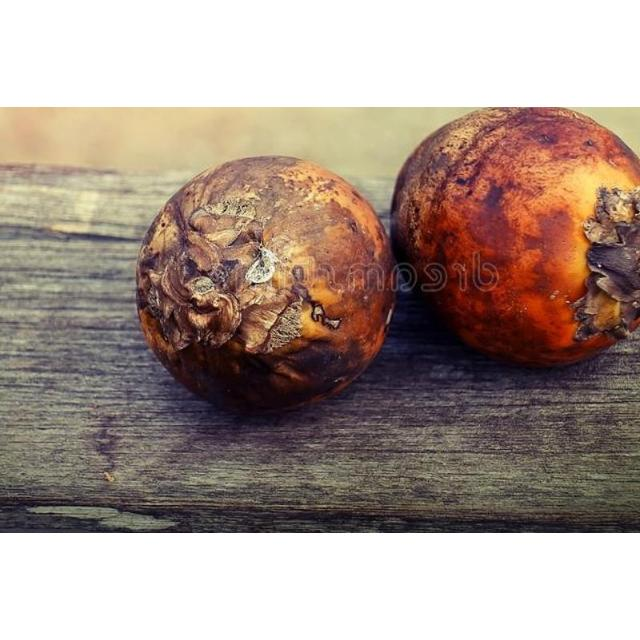damaged: (138, 156, 395, 409), (391, 107, 639, 365)
